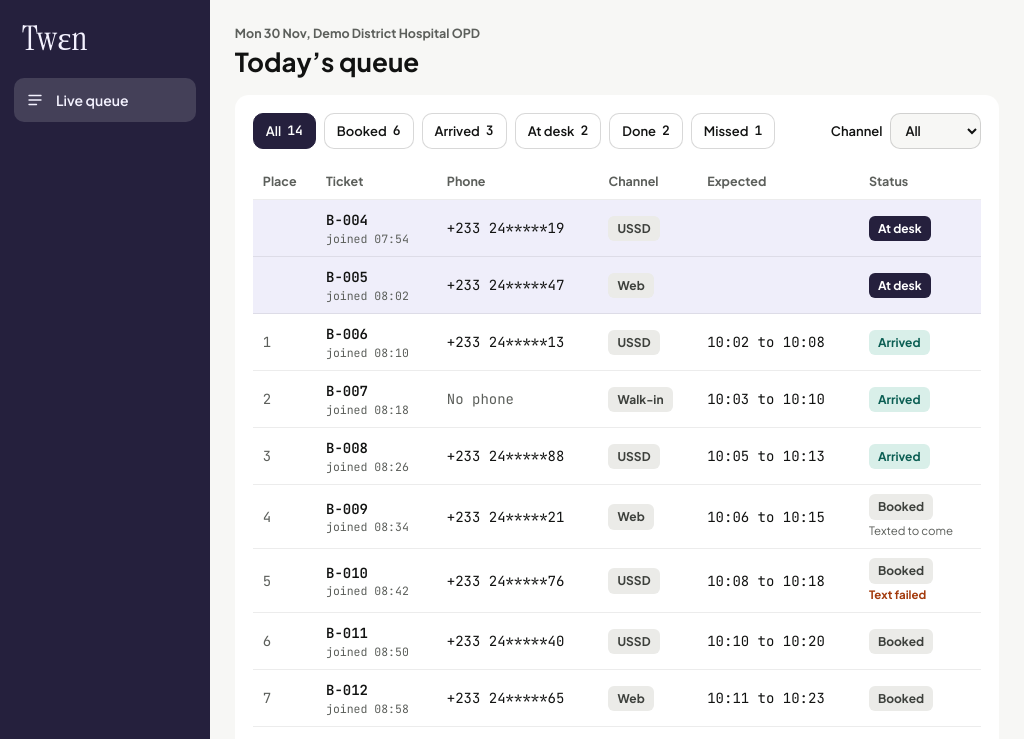
Test: staff queue screen › filters by channel, and the counts follow
Select "Walk-in" in the dropdown labelled "Channel" at (936, 131), box [890,113,981,149]
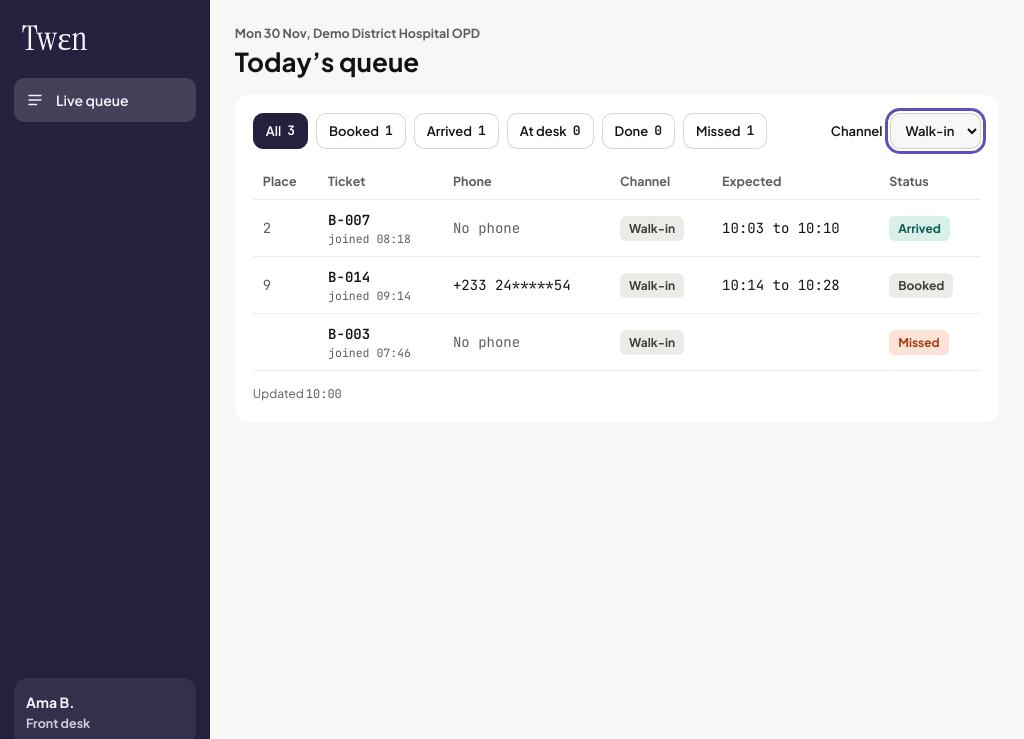
Expected: the row "2 B-007 joined 08:18 No phone Walk-in 10:03 to 10:10 Arrived" is shown, [253,200,981,257]
Expected: the button "All 3" is shown, [253,113,308,149]
